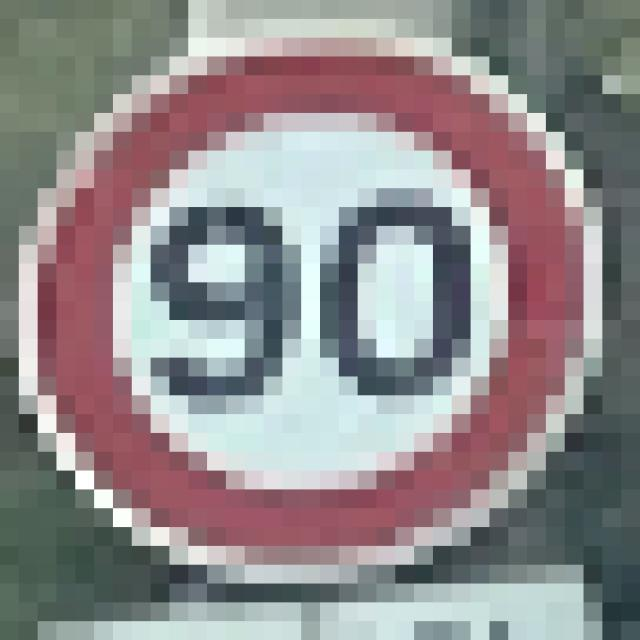speed_90: (0, 8, 621, 621)
